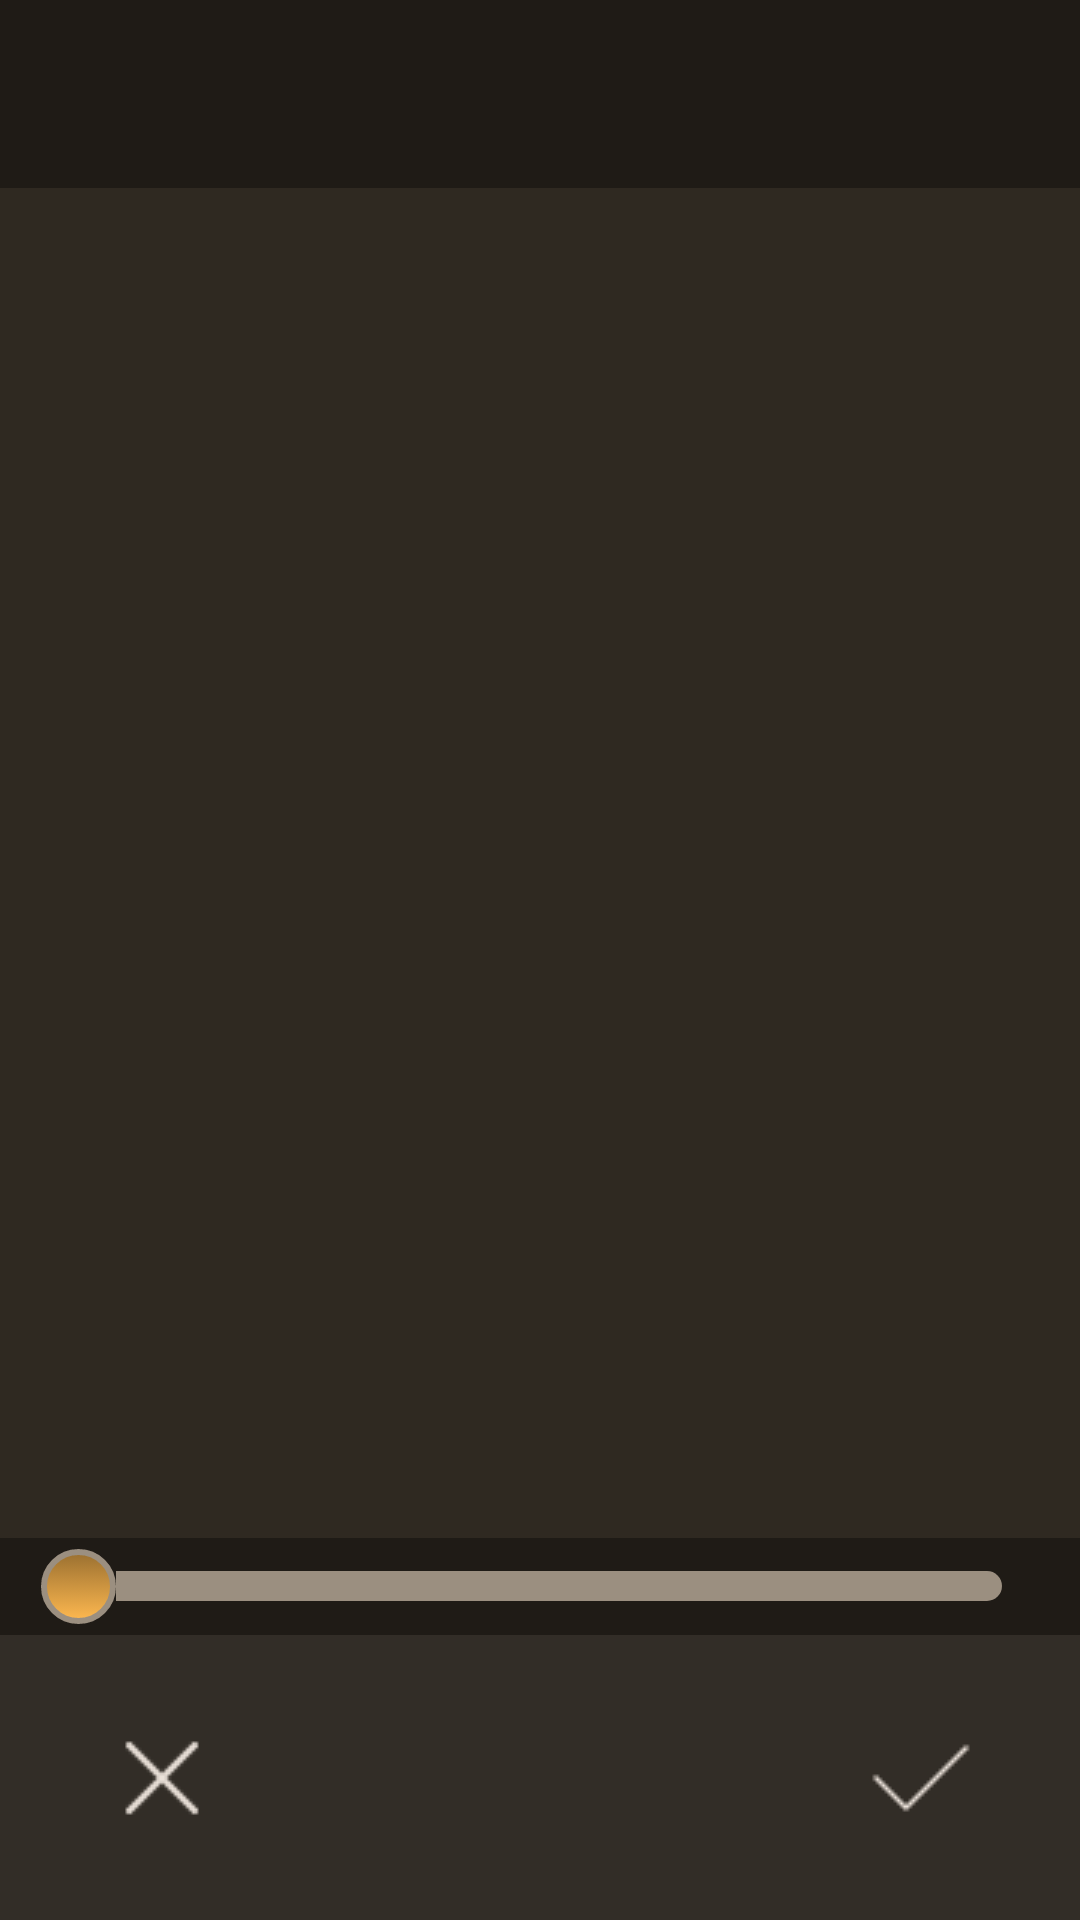

Screen size 1080×1920. Icon name, then its center in pixels as point (x, y):
apply: point (921, 1778)
cancel: point (162, 1778)
